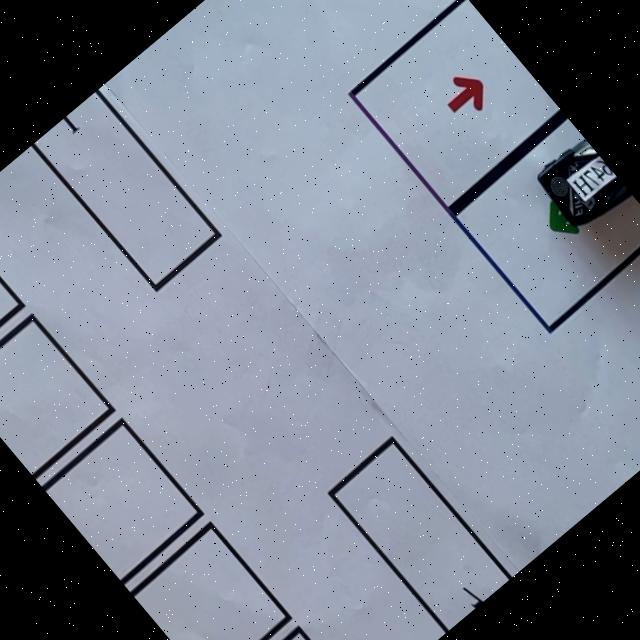car: (526, 130, 637, 243)
